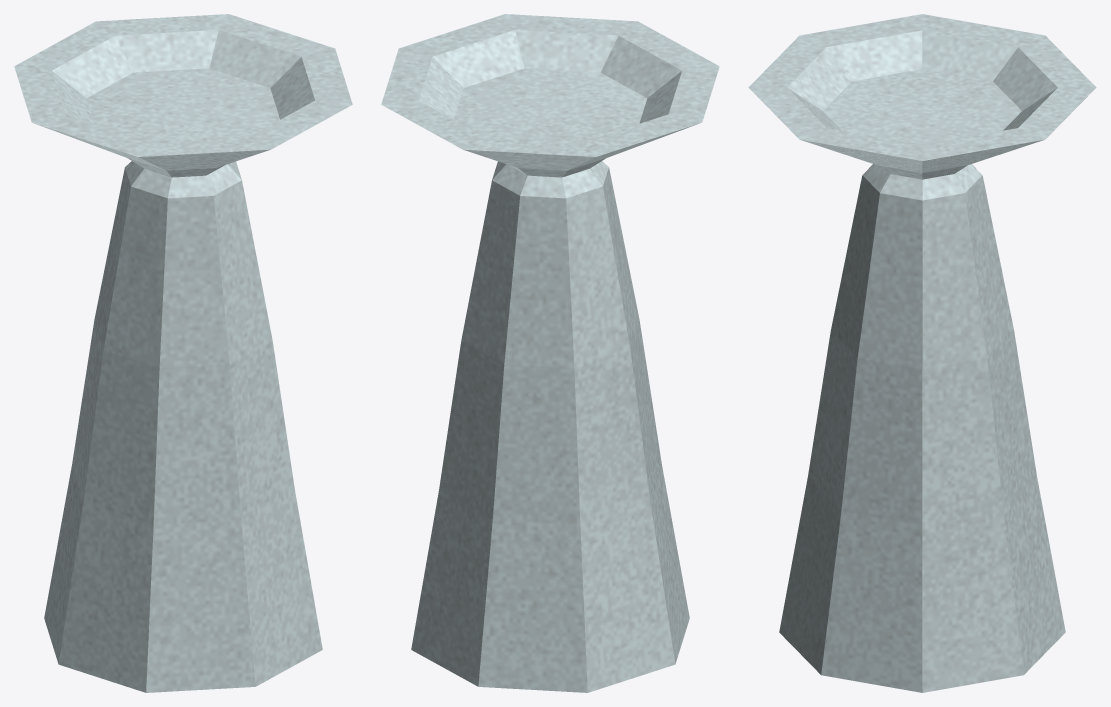
Rendered from Orb Pedastal.glb.
3 views of the same model, side by side, from view 1: azimuth 30°, elevation 25°; view 2: azimuth 150°, elevation 25°; view 3: azimuth 270°, elevation 25° (orthographic).
Parts seen in each view (by area): view 1: Cube; view 2: Cube; view 3: Cube.
Part boxes in pixels (x1,y1,x2,y2): Cube: (14, 14, 352, 692); Cube: (381, 14, 719, 692); Cube: (748, 14, 1096, 692).
Size of the model in its own units: 1.62 by 2.8 by 1.62.
Materials: 1 (1 with a texture image).
